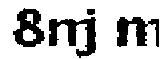8: (7, 2, 46, 50)
j: (80, 5, 106, 60)
m: (110, 12, 160, 52), (46, 15, 91, 46)
